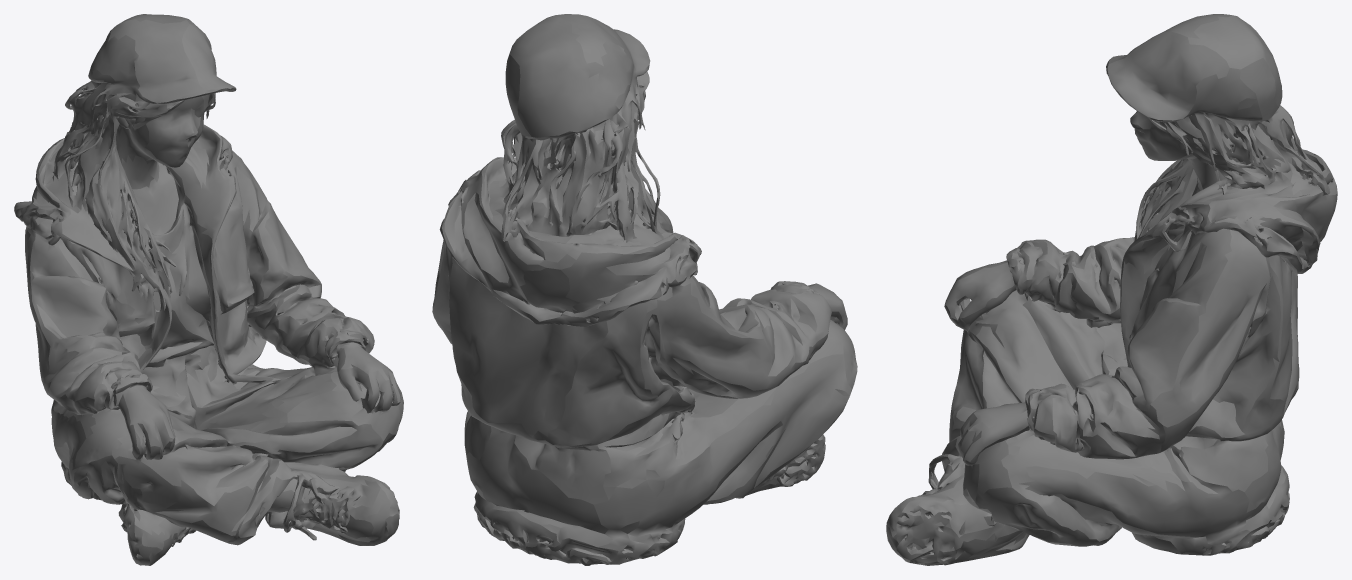
Rendered from completion_0.glb.
3 renders of one model, left to right at view 1: azimuth 30°, elevation 25°; view 2: azimuth 150°, elevation 25°; view 3: azimuth 270°, elevation 25°, orthographic. The views are drawn at different scales.
Parts seen in each view (by area): view 1: geometry_0; view 2: geometry_0; view 3: geometry_0.
Boxes of the visible parts, x1,y1,x2,y2 form: geometry_0: (14, 14, 403, 565); geometry_0: (432, 14, 857, 565); geometry_0: (886, 14, 1337, 565).
Bounding box in the file's own units: 0.7588 × 1 × 0.8306.
1 material, 1 textured.
